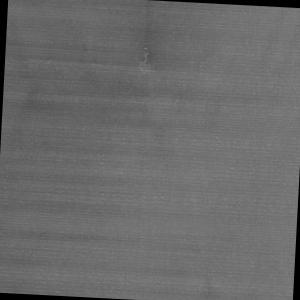Damage: (134, 30, 158, 83)
Wrinkle: (2, 4, 55, 143), (254, 7, 294, 77), (194, 231, 229, 300)
